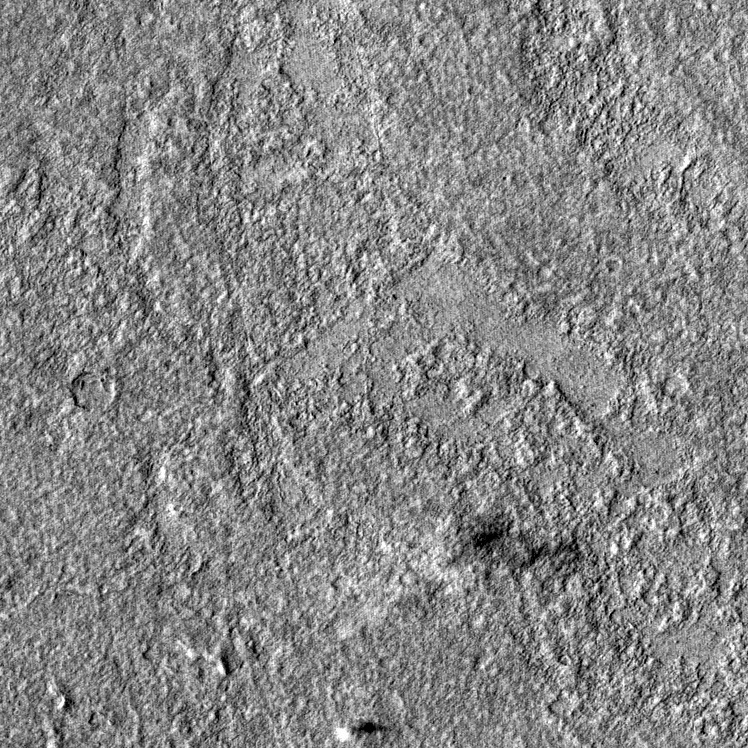dust_devil: (333, 717, 391, 743)
